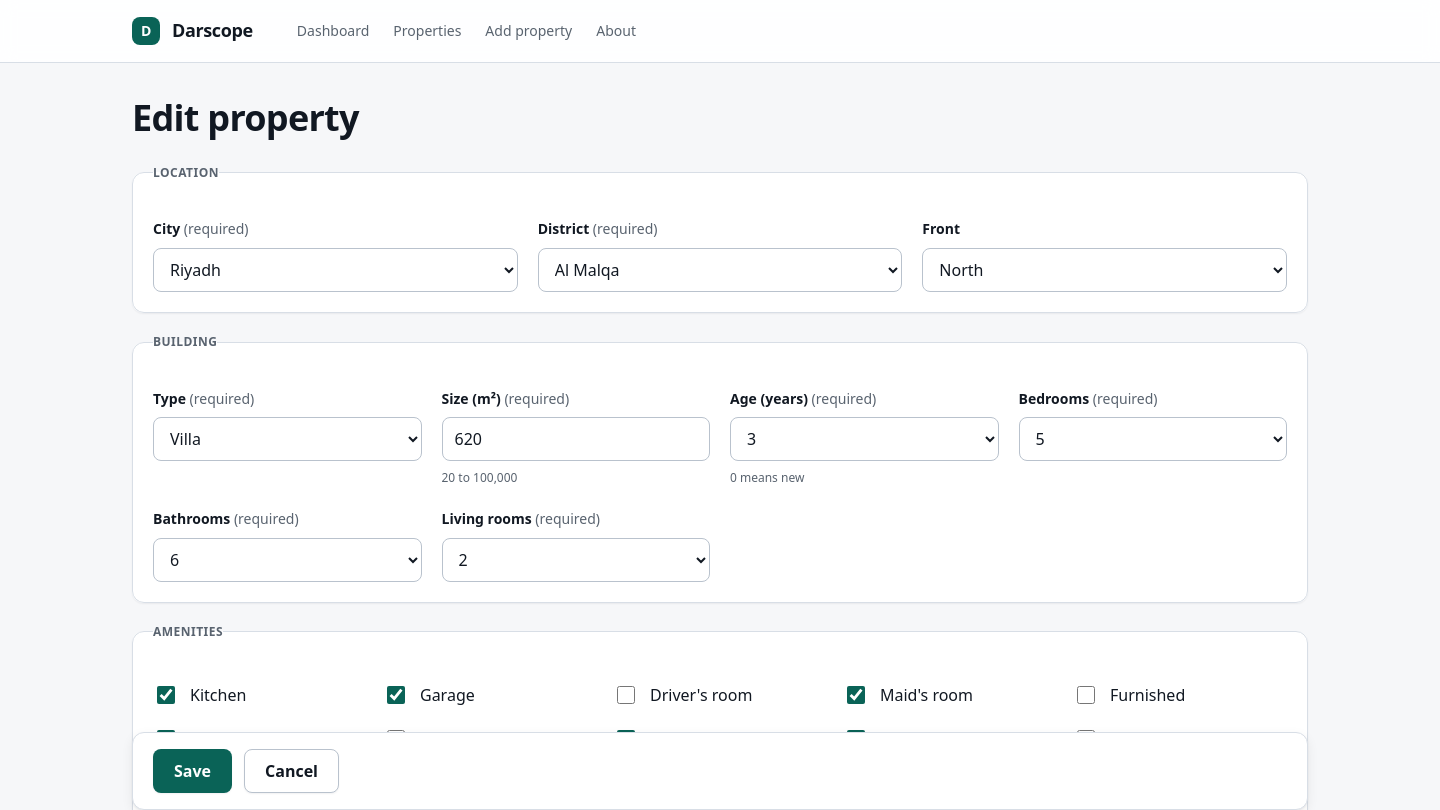
Test case: PropertyFormPage: AC-05 update a property › applies the same checks as adding (FR-UPD-02)
Replace the text in the field labelled "Size (m²) (required)" with "5": coordinates (576, 439) [442,417,710,461]
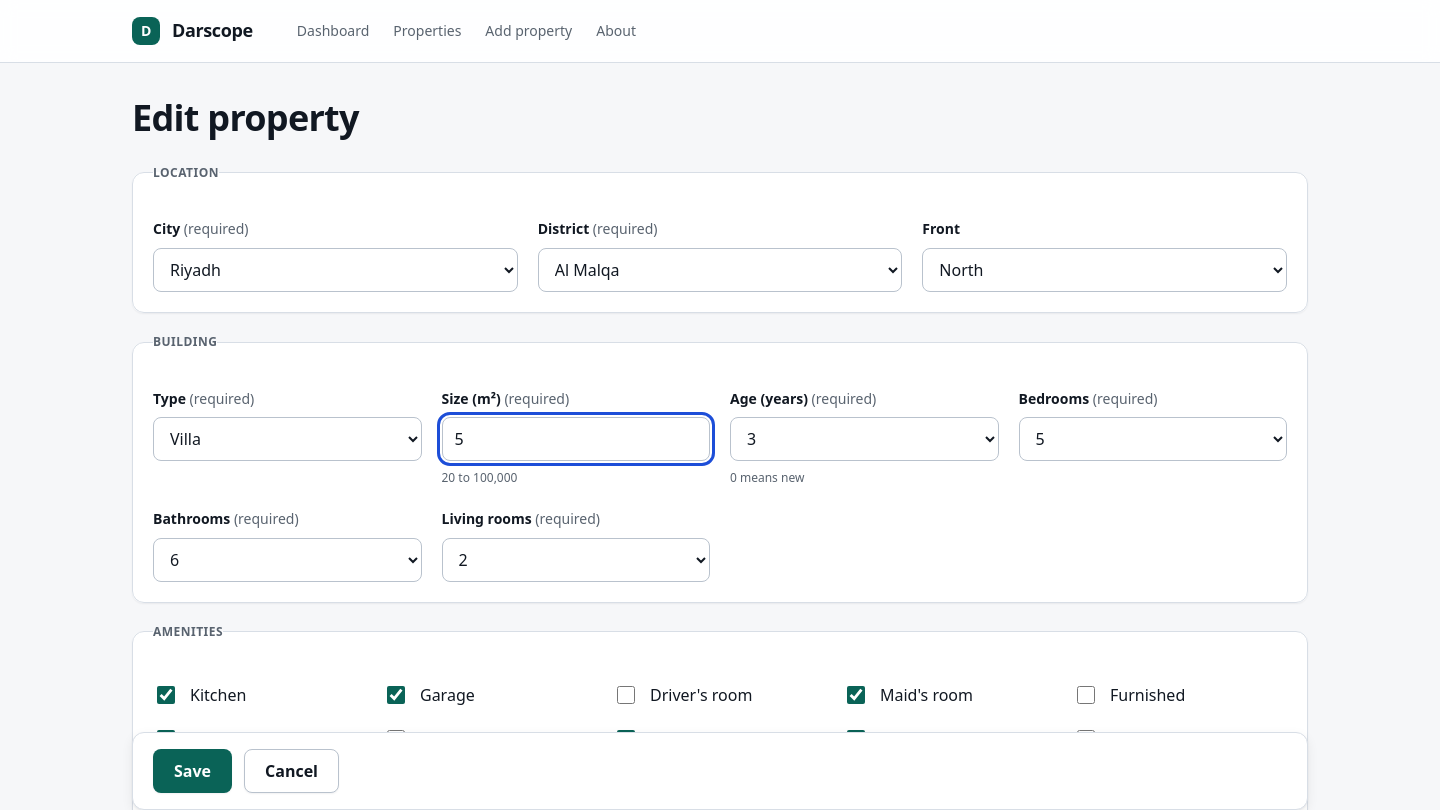
Click the button "Save": coordinates (192, 771) [153,749,232,793]
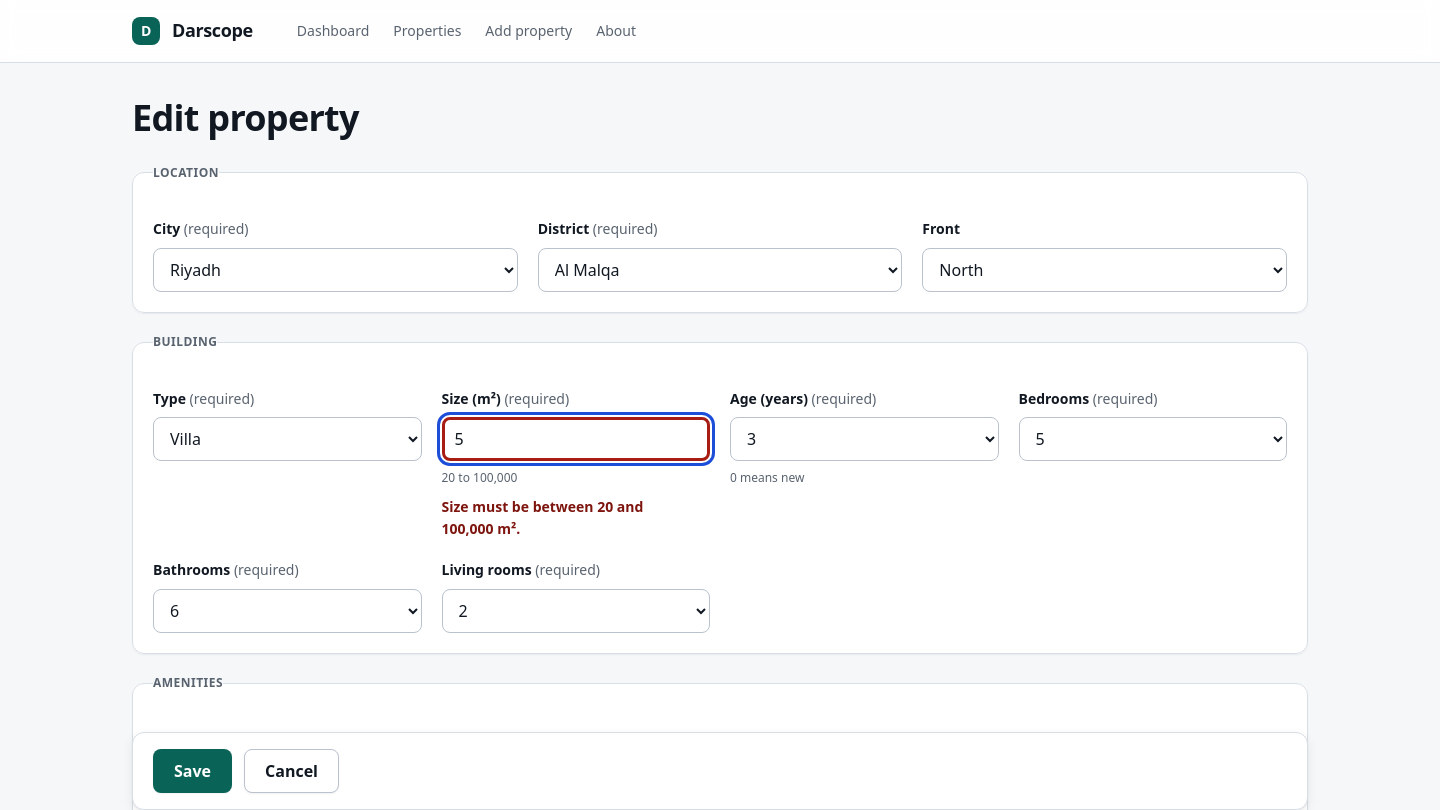
Expected: the text "Size must be between 20 and 100,000 m²." is shown, [442,497,643,538]
